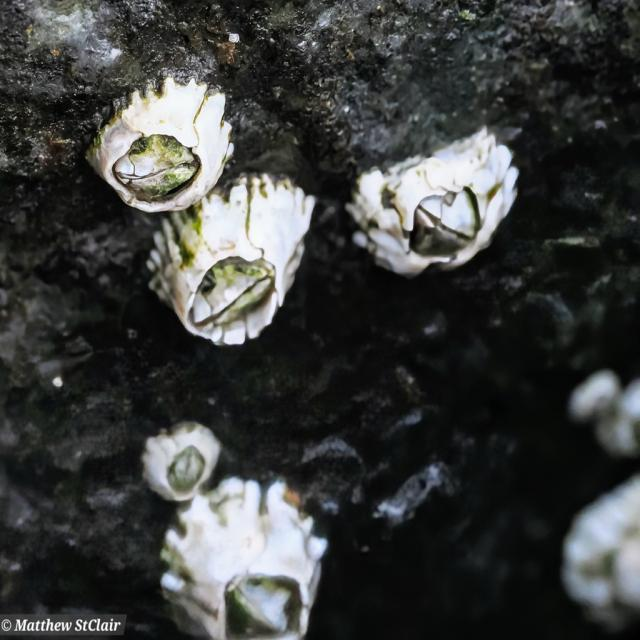barnacles: (151, 184, 322, 356), (344, 125, 520, 277), (152, 492, 332, 639), (84, 72, 234, 212), (134, 418, 220, 496)
